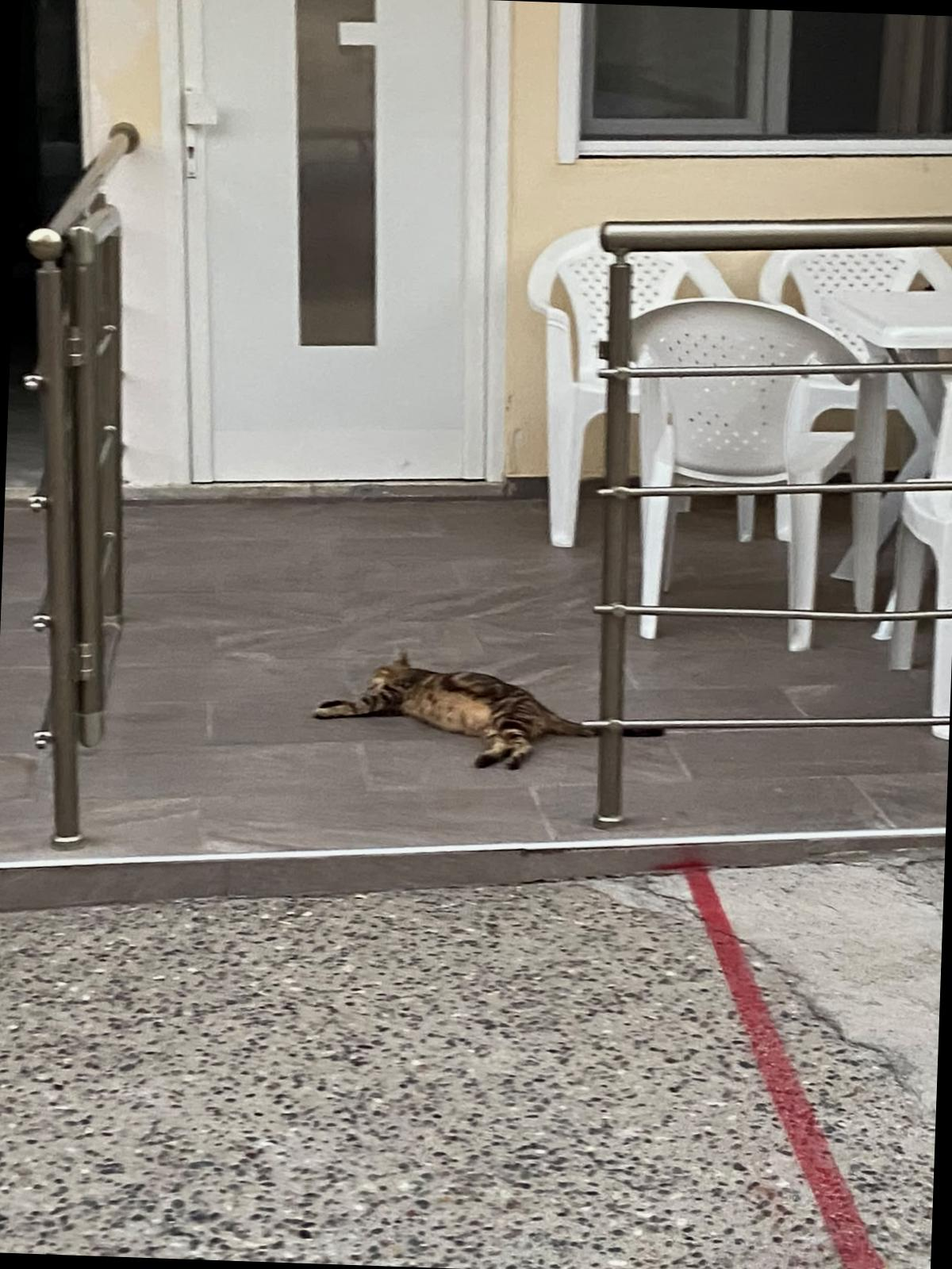macka: (309, 647, 667, 777)
